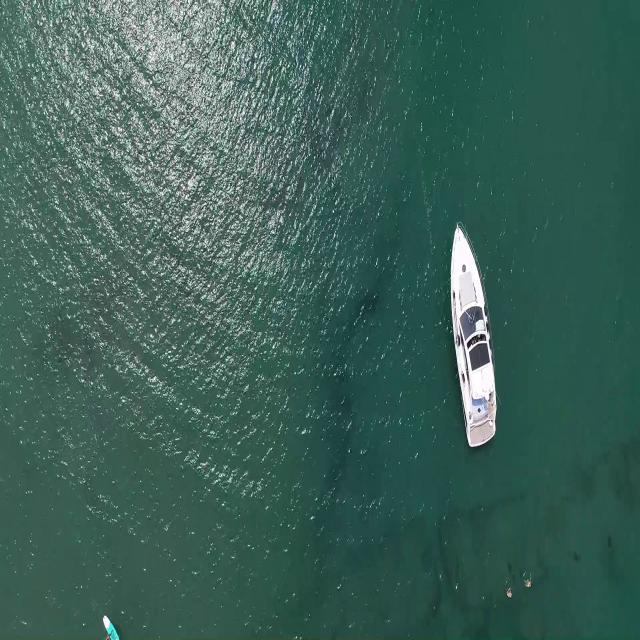boat: (448, 221, 502, 453)
person: (523, 575, 536, 589), (506, 588, 514, 598)
surfboard: (103, 613, 120, 640)
